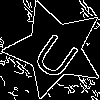U: (29, 24, 87, 83)
